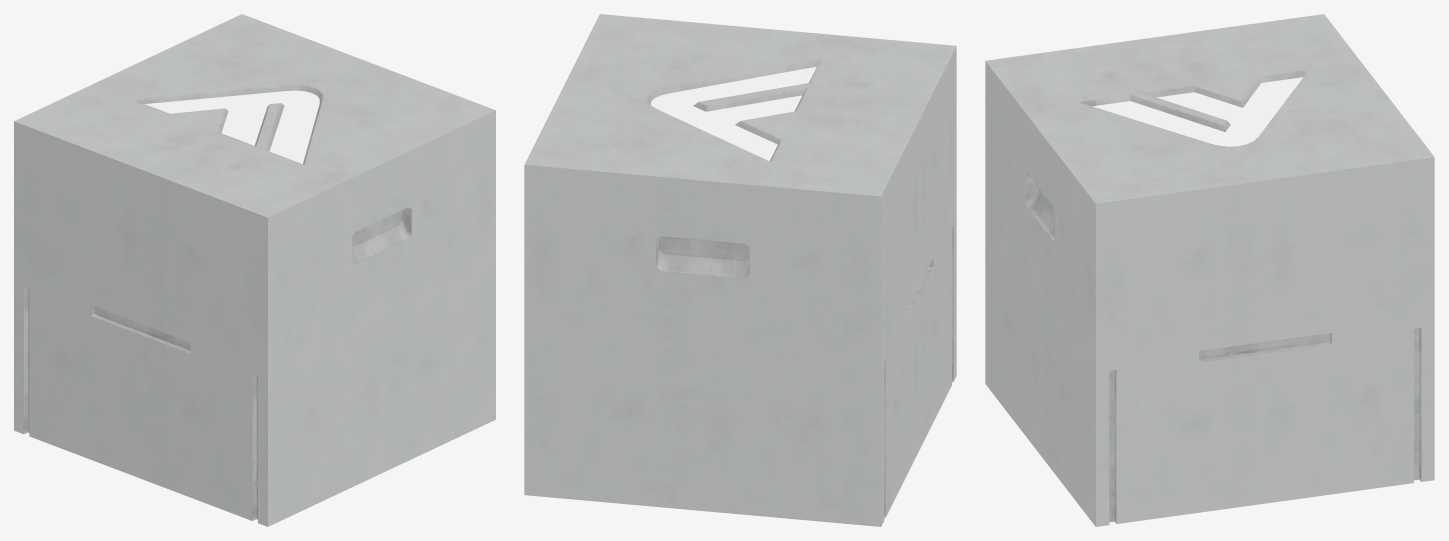
File: vault.glb
3 renders of one model, left to right at view 1: azimuth 30°, elevation 25°; view 2: azimuth 150°, elevation 25°; view 3: azimuth 270°, elevation 25°, orthographic. The views are drawn at different scales.
Visible parts, largest first — view 1: Object_4.002; view 2: Object_4.002; view 3: Object_4.002.
Boxes of the visible parts, bbox=[...] form: Object_4.002: bbox=[14, 14, 495, 526]; Object_4.002: bbox=[524, 14, 956, 526]; Object_4.002: bbox=[985, 14, 1434, 526].
Size of the model in its own units: 0.6274 by 0.4976 by 0.6274.
Materials: 1 (1 with a texture image).
